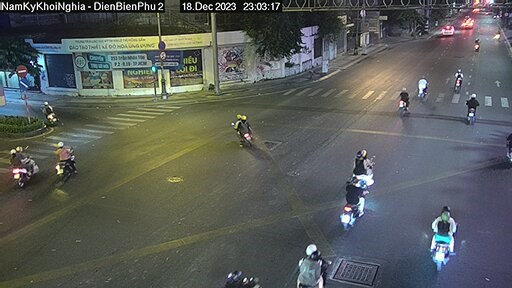car: (440, 22, 460, 46)
motorbike: (334, 179, 377, 230), (426, 211, 457, 273), (229, 112, 259, 153), (348, 150, 380, 188), (56, 142, 80, 184), (9, 147, 36, 184), (37, 99, 64, 131), (397, 83, 413, 118), (413, 70, 430, 98), (469, 96, 482, 123), (454, 70, 466, 96), (475, 41, 480, 51)
